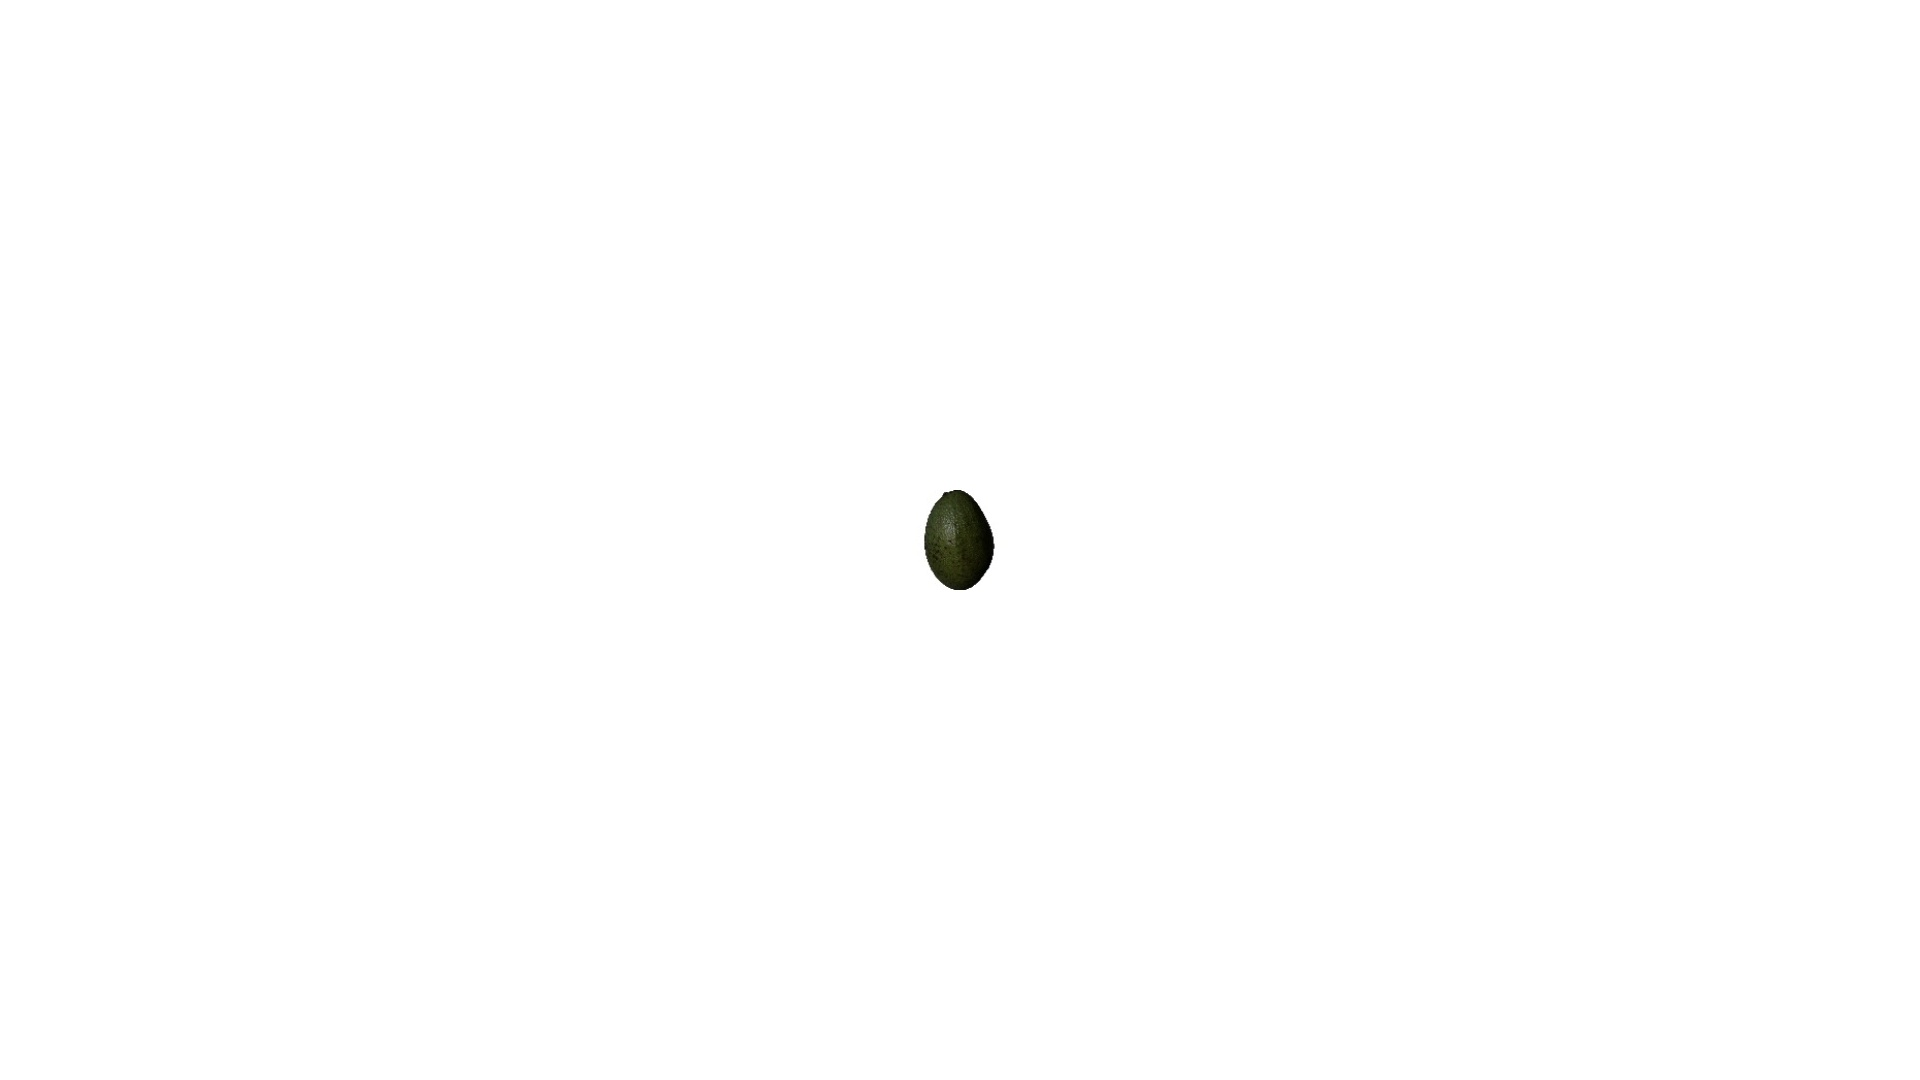abacate: (922, 487, 1000, 593)
